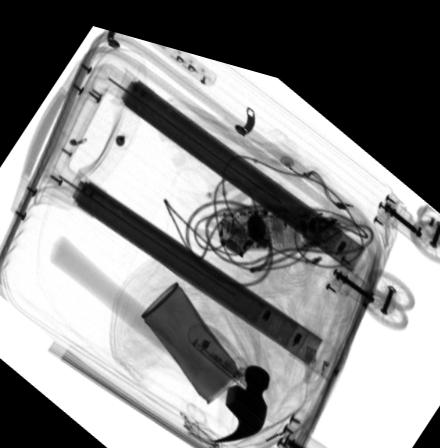Hammer: (48, 229, 271, 430)
